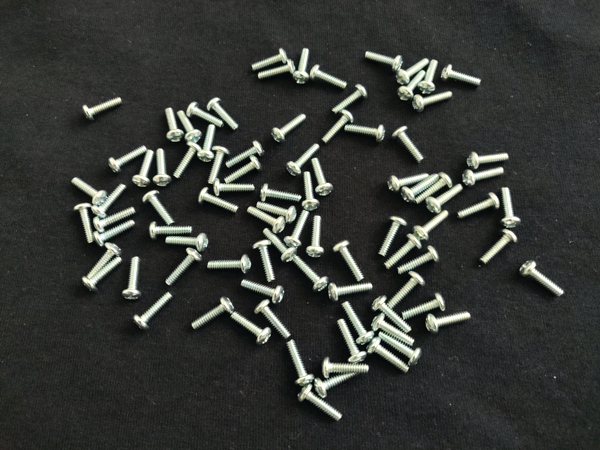shortscrew: (298, 384, 343, 423), (133, 292, 173, 332), (372, 296, 414, 334), (520, 261, 565, 296), (368, 337, 410, 374), (378, 333, 423, 367), (83, 256, 124, 293), (192, 297, 235, 332), (387, 271, 426, 309), (254, 300, 292, 339), (165, 248, 203, 287), (341, 302, 375, 345), (292, 255, 330, 293), (86, 242, 123, 281), (480, 230, 518, 267), (384, 234, 423, 270), (373, 315, 416, 347), (232, 311, 272, 345), (333, 240, 365, 282), (287, 341, 316, 387), (392, 126, 426, 165), (397, 245, 441, 275), (338, 319, 367, 364), (315, 371, 363, 398), (457, 193, 501, 222), (93, 206, 138, 234), (91, 183, 126, 219), (378, 217, 408, 258), (263, 228, 298, 263), (414, 172, 453, 203), (108, 145, 148, 175), (402, 293, 446, 320), (286, 144, 322, 177), (207, 97, 240, 133), (271, 113, 308, 145), (401, 174, 441, 203), (413, 211, 450, 242), (92, 221, 136, 247), (426, 184, 464, 214), (331, 84, 369, 114), (225, 140, 265, 168), (143, 190, 174, 226), (426, 311, 472, 335), (198, 187, 240, 213), (247, 206, 286, 234), (323, 110, 354, 145), (241, 280, 284, 305), (71, 177, 108, 206), (322, 357, 370, 379), (224, 156, 263, 183), (441, 63, 483, 88), (253, 240, 277, 283), (187, 101, 225, 128), (284, 210, 309, 251), (412, 90, 454, 113), (310, 158, 334, 198), (83, 97, 123, 121), (398, 70, 427, 103), (311, 64, 348, 89), (499, 188, 522, 228), (257, 202, 297, 225), (396, 58, 430, 85), (257, 59, 298, 81), (207, 146, 230, 185), (177, 110, 203, 144), (462, 167, 506, 187), (250, 49, 288, 72), (207, 255, 253, 274), (260, 184, 303, 204), (365, 51, 404, 73), (132, 150, 154, 189), (328, 283, 373, 302), (74, 203, 95, 243), (467, 152, 510, 171), (387, 173, 430, 192), (165, 233, 208, 252), (149, 222, 192, 241), (345, 123, 385, 143), (306, 216, 325, 258), (302, 171, 321, 211), (418, 59, 439, 95), (212, 179, 255, 196), (197, 124, 215, 164), (165, 108, 185, 144), (155, 149, 173, 188), (293, 49, 310, 84)
